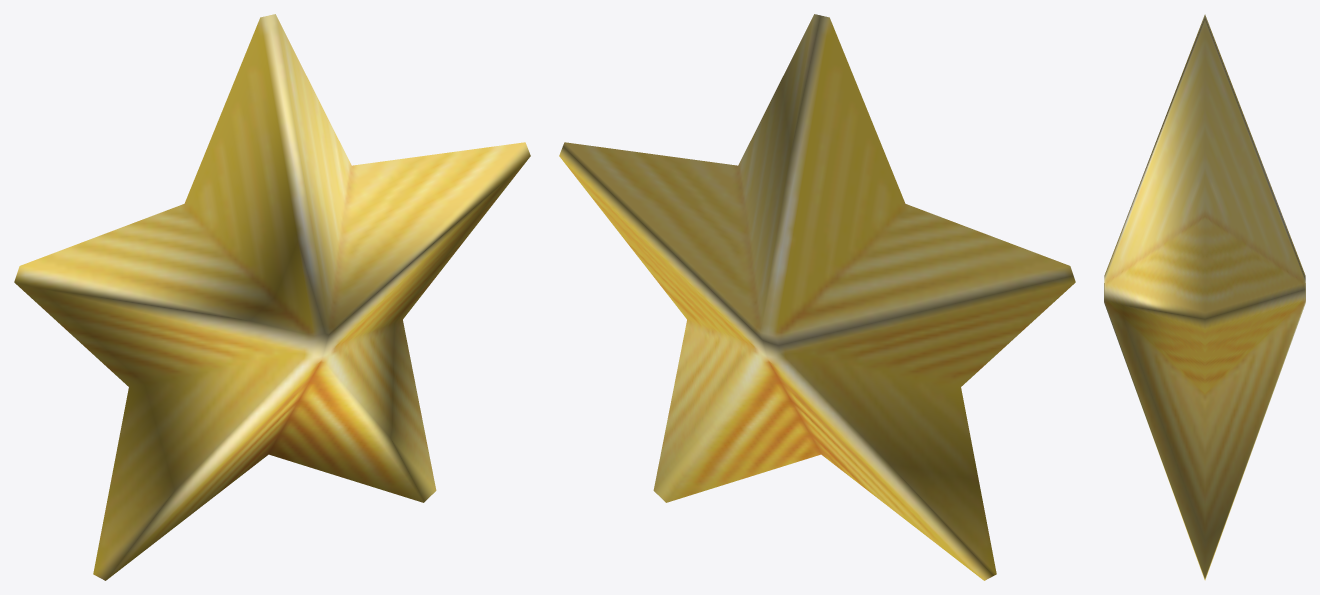
File: userdata.ico.obj
3 renders of one model, left to right at view 1: azimuth 30°, elevation 25°; view 2: azimuth 150°, elevation 25°; view 3: azimuth 270°, elevation 25°, orthographic. The views are drawn at different scales.
Bounding box in the file's own units: 4.84 × 4.7 × 1.75.
1 material, 1 textured.
